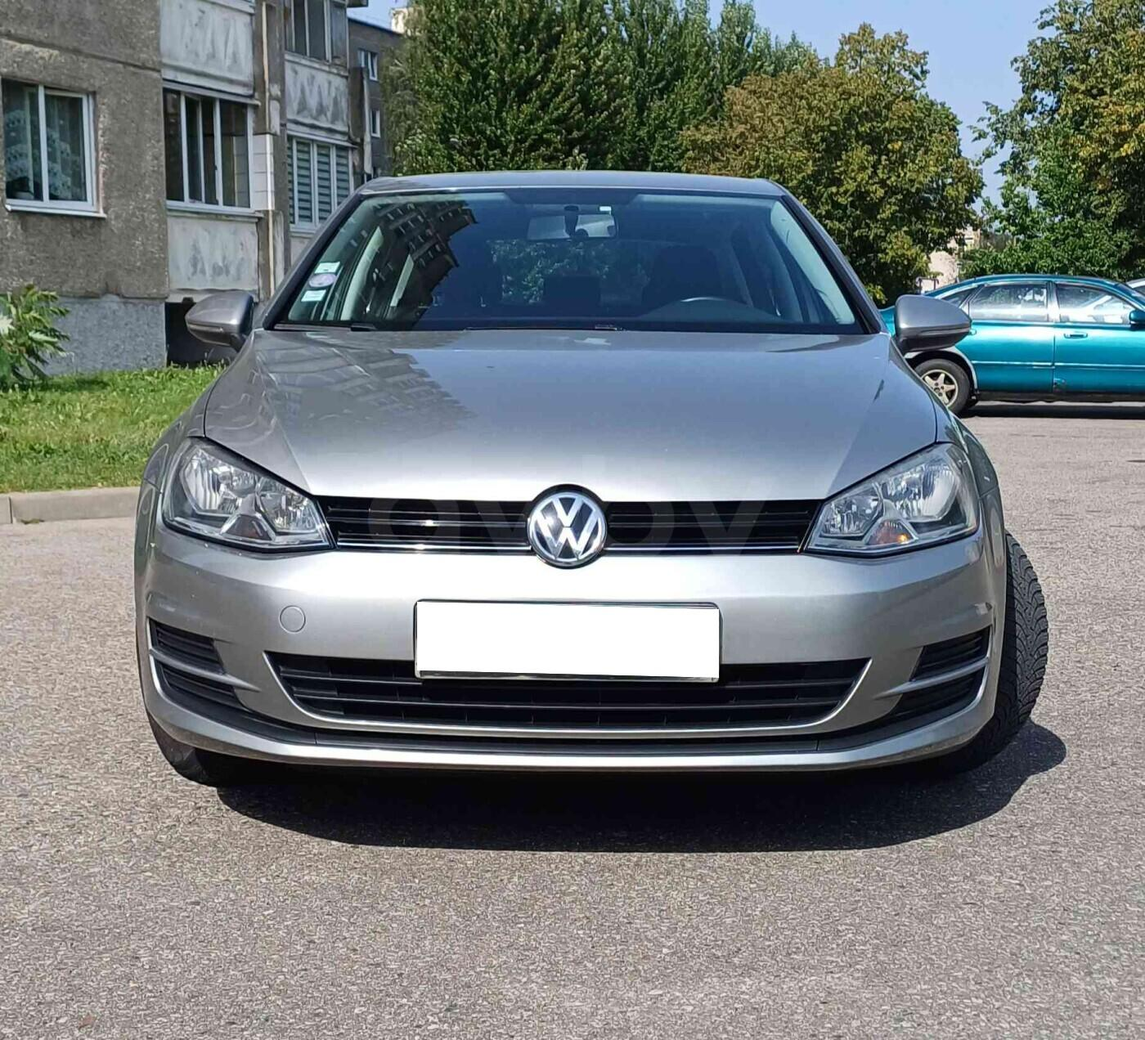Golf_2012-2017: (131, 158, 1055, 802)
